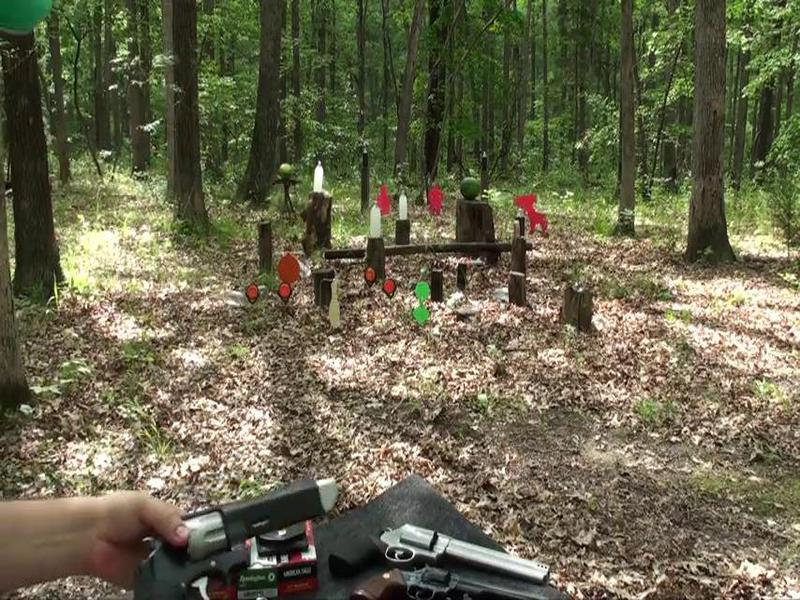Revolver: (119, 463, 360, 600)
